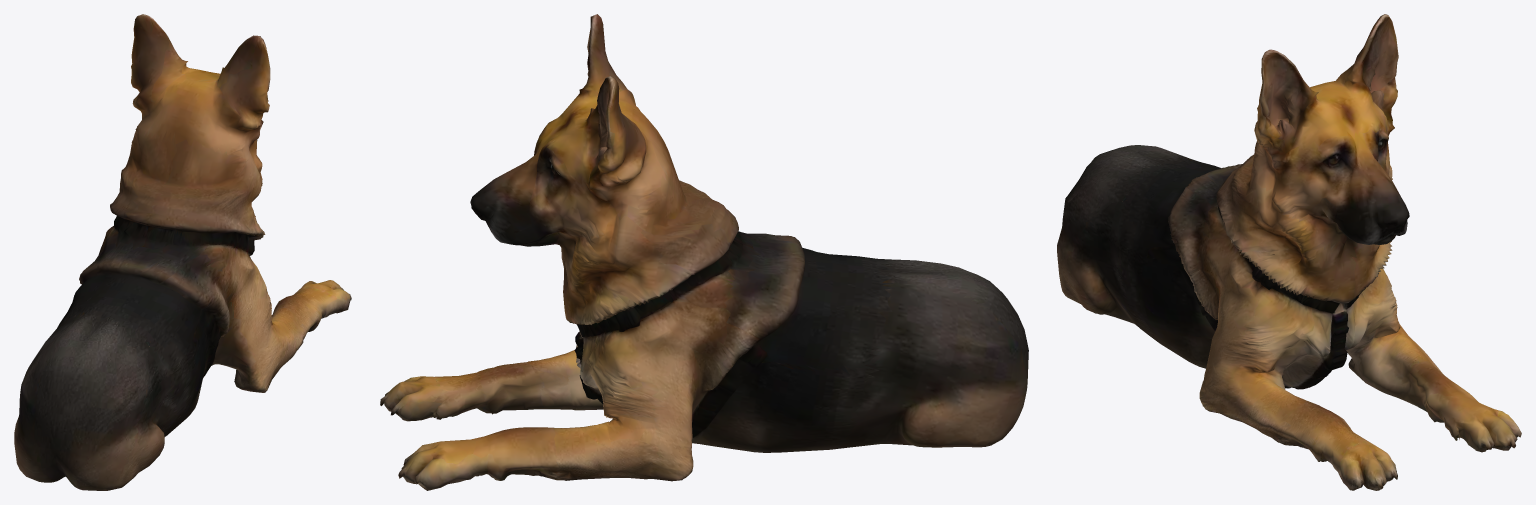
Rendered from dog.00de2ffc1b5d.glb.
3 views of the same model, side by side, from view 1: azimuth 30°, elevation 25°; view 2: azimuth 150°, elevation 25°; view 3: azimuth 270°, elevation 25° (orthographic). The views are drawn at different scales.
Parts seen in each view (by area): view 1: tripo_node_cbf39352-c585-4a45-9440-c7da58859d05; view 2: tripo_node_cbf39352-c585-4a45-9440-c7da58859d05; view 3: tripo_node_cbf39352-c585-4a45-9440-c7da58859d05.
Boxes of the visible parts, <box> form: tripo_node_cbf39352-c585-4a45-9440-c7da58859d05: <box>14,14,351,490</box>; tripo_node_cbf39352-c585-4a45-9440-c7da58859d05: <box>380,14,1028,490</box>; tripo_node_cbf39352-c585-4a45-9440-c7da58859d05: <box>1057,14,1521,490</box>.
Bounding box in the file's own units: 0.896 × 0.66 × 0.7463.
Materials: 1 (1 with a texture image).
